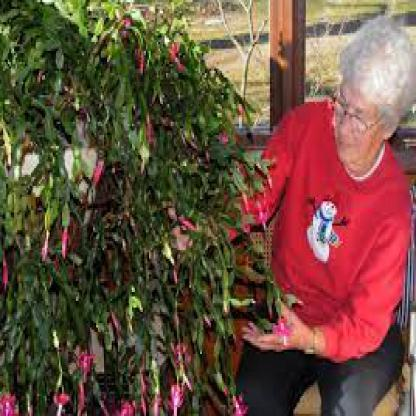Aglonema: (18, 28, 387, 241), (120, 294, 416, 412)
